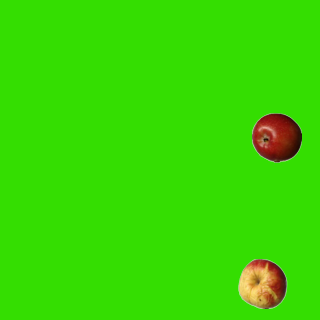Apple Braeburn: (251, 112, 301, 162)
Apple Red Yellow 1: (237, 258, 287, 308)
